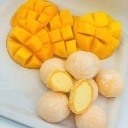mango: (6, 19, 57, 69), (74, 9, 122, 61), (39, 59, 74, 93), (36, 91, 72, 122)
